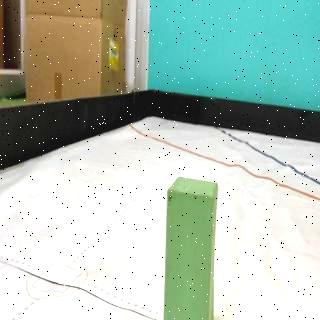greenbox: (162, 175, 220, 320)
